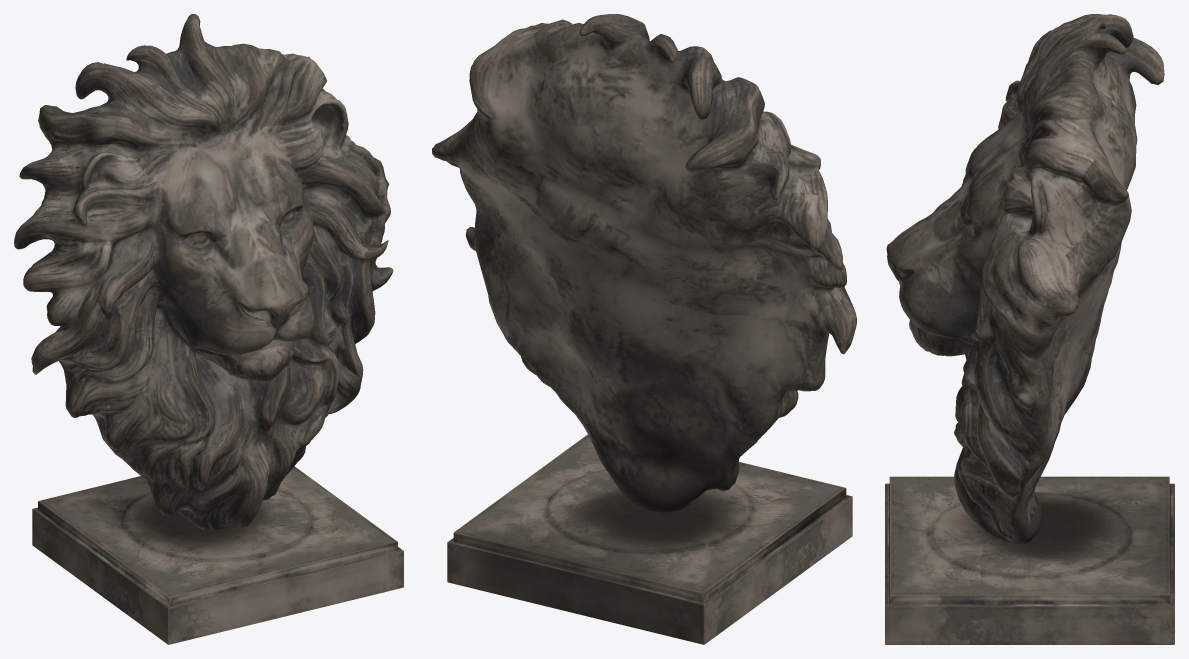
Rendered from lion_head.glb.
The picture shows the model from 3 angles, left to right: view 1: azimuth 30°, elevation 25°; view 2: azimuth 150°, elevation 25°; view 3: azimuth 270°, elevation 25°; orthographic projection. The views are drawn at different scales.
Parts seen in each view (by area): view 1: lion_head; view 2: lion_head; view 3: lion_head.
Boxes of the visible parts, x1,y1,x2,y2 form: lion_head: (14,14,403,644); lion_head: (432,14,856,644); lion_head: (885,14,1174,644).
Bounding box in the file's own units: 0.3208 × 0.4364 × 0.2066.
1 material, 1 textured.
